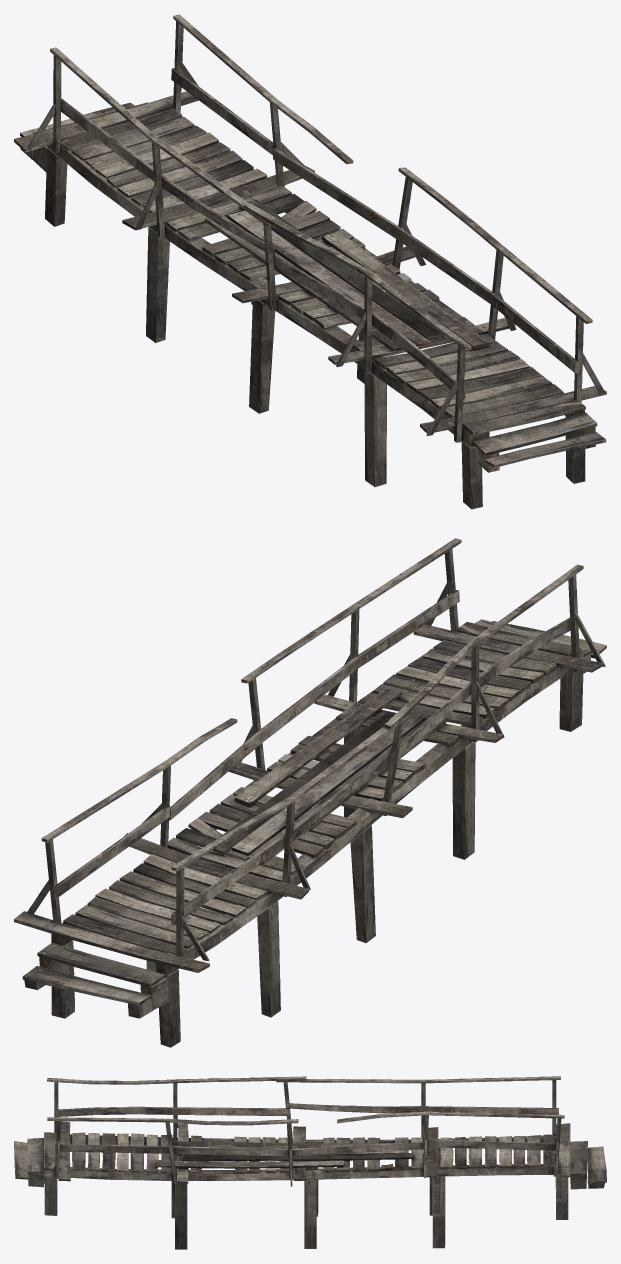
File: bridge.fbx
3 views of the same model, one above another, from view 1: azimuth 30°, elevation 25°; view 2: azimuth 150°, elevation 25°; view 3: azimuth 270°, elevation 25° (orthographic). The views are drawn at different scales.
Visible parts, largest first — view 1: Bridge; view 2: Bridge; view 3: Bridge.
Part boxes in pixels (box(x1,y1,x2,y2)): Bridge: box(14, 14, 606, 509); Bridge: box(14, 538, 606, 1047); Bridge: box(14, 1076, 606, 1249).
Bounding box in the file's own units: 462 × 509 × 1999.
